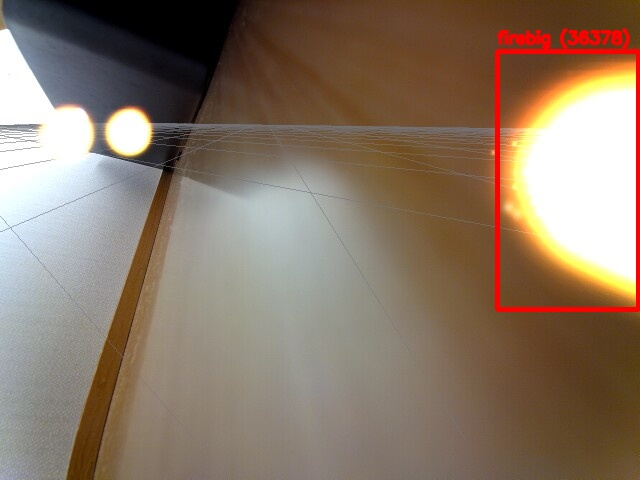firebig: (497, 51, 638, 309)
